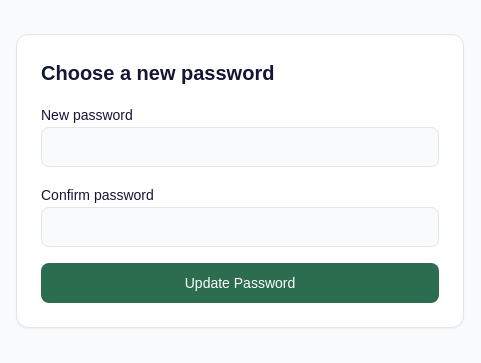
Test case: ResetPasswordPage › rejects mismatched passwords
Type "river-stone-42" into the password field labelled "New password" at [240, 147], box [41,127,439,167]
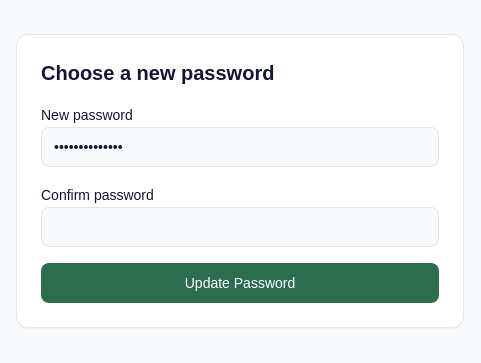
Type "river-stone-43" into the password field labelled "Confirm password" at [240, 227], box [41,207,439,247]
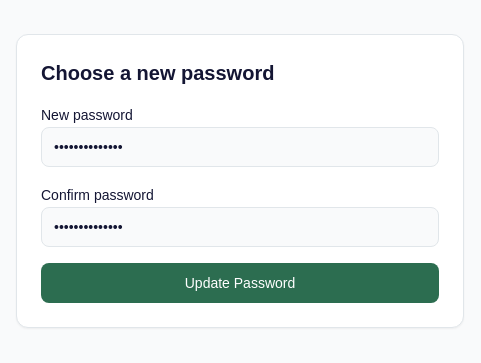
Click the button "Update Password" at [240, 283], box [41,263,439,303]
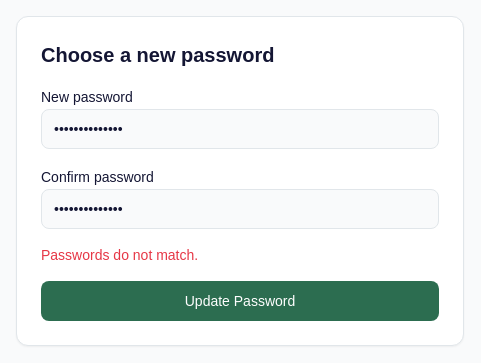
Now the text "Passwords do not match." is shown, box [41,247,198,263]
